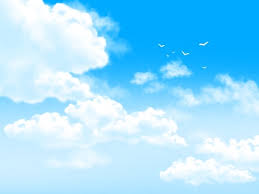sky: (1, 1, 257, 194)
